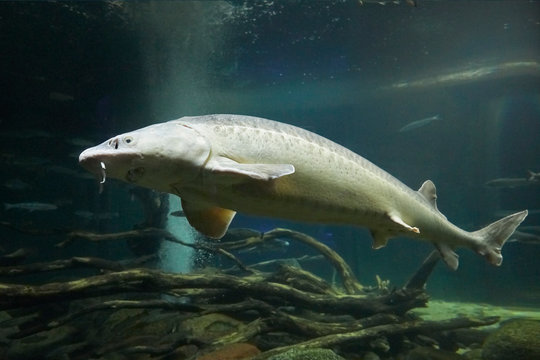Sturgeon: (55, 81, 536, 300)
